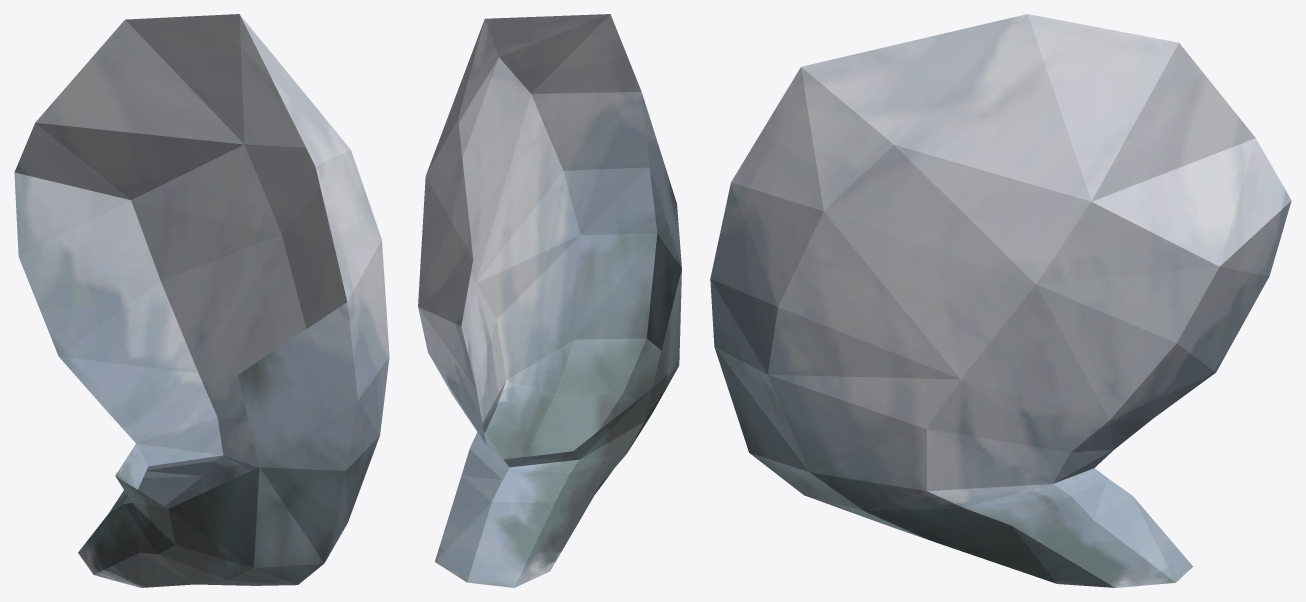
File: Pata1_Trasera_Izq.obj
3 renders of one model, left to right at view 1: azimuth 30°, elevation 25°; view 2: azimuth 150°, elevation 25°; view 3: azimuth 270°, elevation 25°, orthographic. The views are drawn at different scales.
Parts seen in each view (by area): view 1: Pata1_Trasera_IzqpolySurface4Conejo; view 2: Pata1_Trasera_IzqpolySurface4Conejo; view 3: Pata1_Trasera_IzqpolySurface4Conejo.
Part boxes in pixels (x1=…): Pata1_Trasera_IzqpolySurface4Conejo: x1=14, y1=14, x2=389, y2=587; Pata1_Trasera_IzqpolySurface4Conejo: x1=418, y1=14, x2=681, y2=587; Pata1_Trasera_IzqpolySurface4Conejo: x1=710, y1=14, x2=1291, y2=587.
Size of the model in its own units: 0.0448 by 0.1363 by 0.1216.
Materials: 1 (1 with a texture image).
